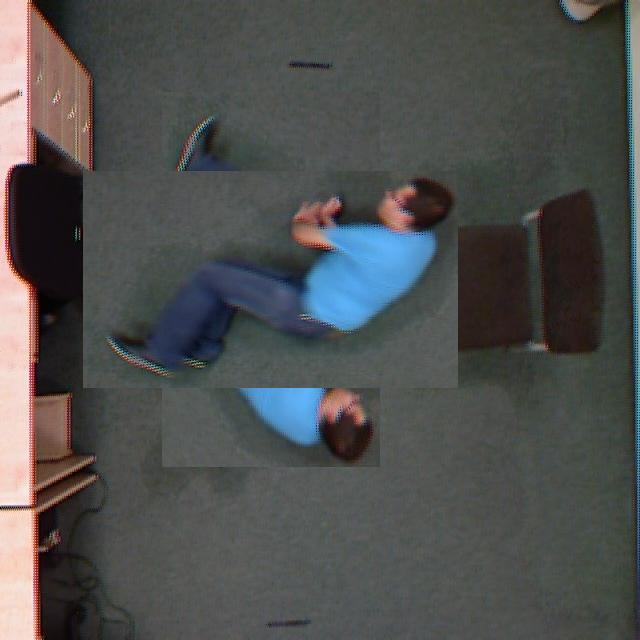Fall: (95, 143, 464, 367)
